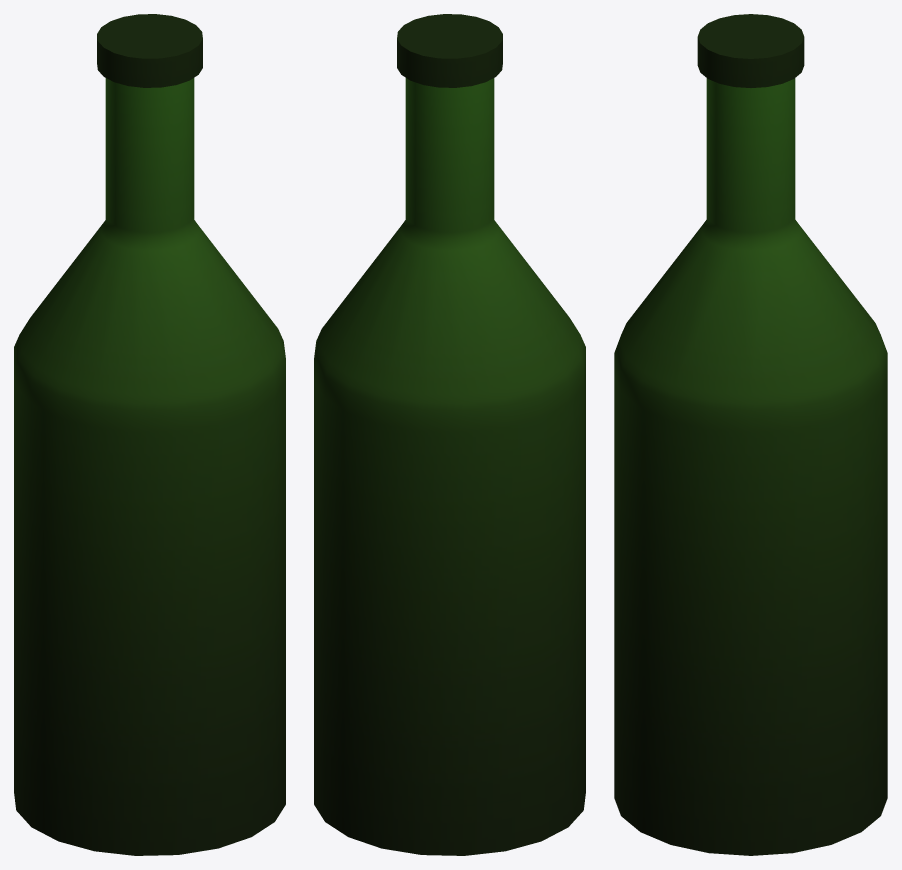
File: bottle_glass_green.fbx
3 views of the same model, side by side, from view 1: azimuth 30°, elevation 25°; view 2: azimuth 150°, elevation 25°; view 3: azimuth 270°, elevation 25° (orthographic).
Visible parts, largest first — view 1: bottle_glass_green; view 2: bottle_glass_green; view 3: bottle_glass_green.
Boxes of the visible parts, bbox=[...] form: bottle_glass_green: bbox=[14, 14, 285, 855]; bottle_glass_green: bbox=[314, 14, 585, 855]; bottle_glass_green: bbox=[614, 14, 887, 855].
Bounding box in the file's own units: 140 × 432 × 140.
